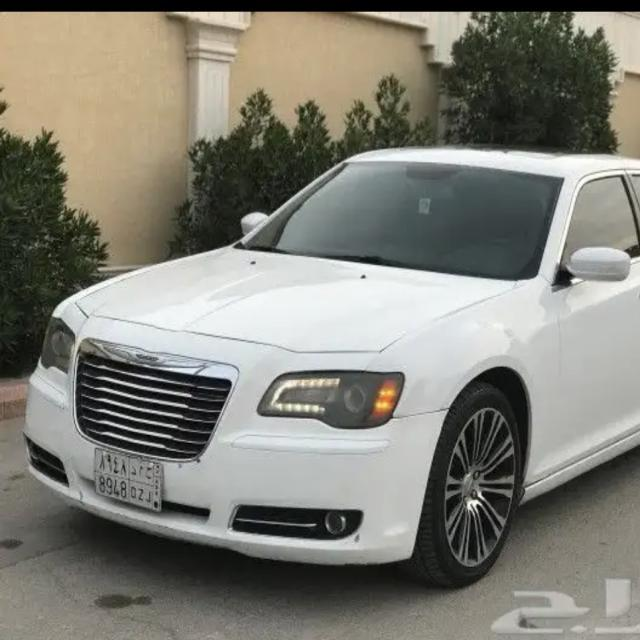license_plate: (91, 446, 168, 514)
